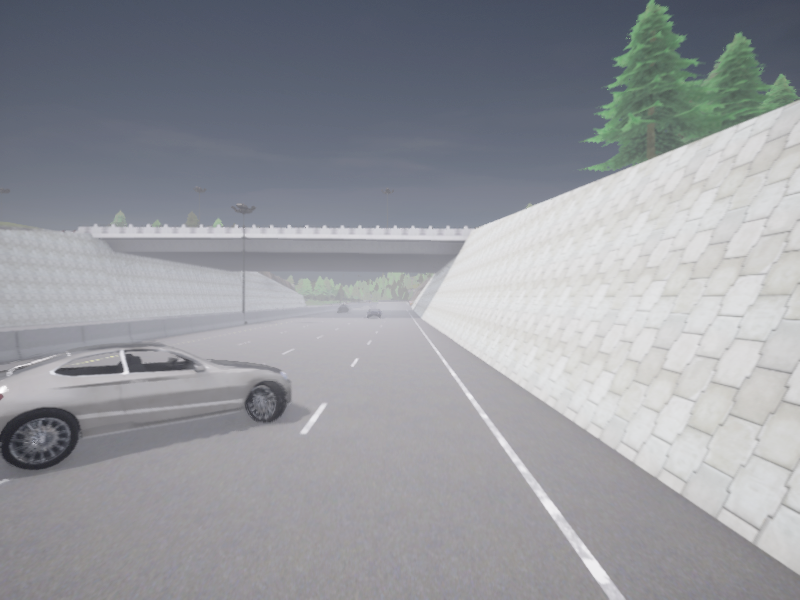vehicle: (0, 343, 292, 469), (367, 308, 381, 317), (338, 304, 350, 312)
